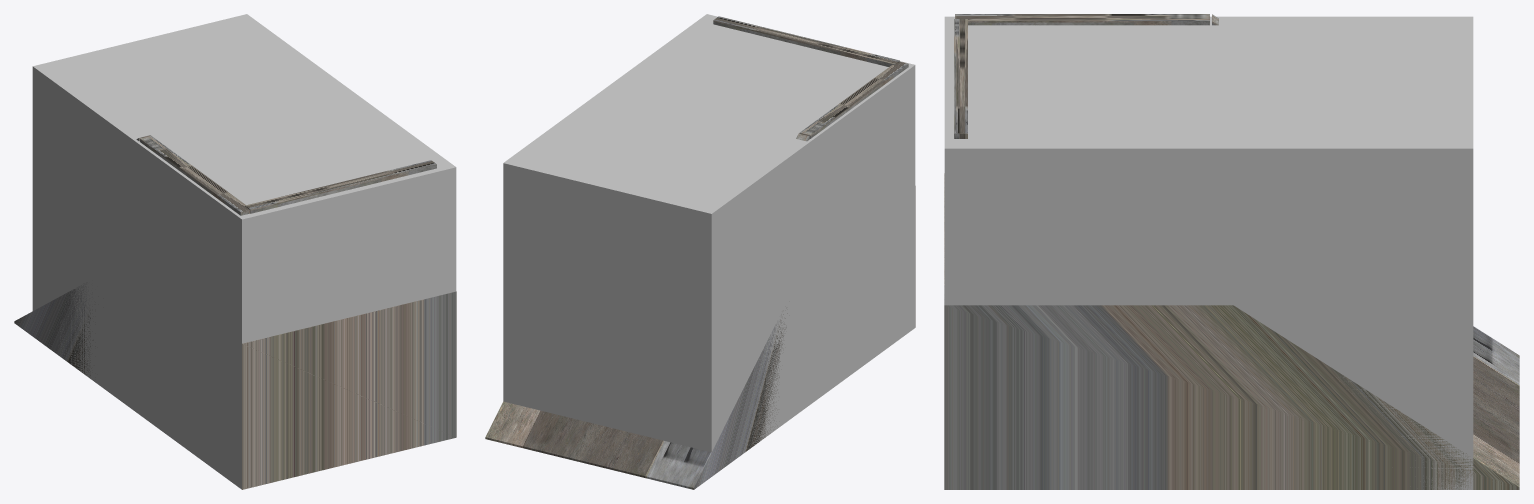
Rendered from concrete_stairs_right.DAE.
3 renders of one model, left to right at view 1: azimuth 30°, elevation 25°; view 2: azimuth 150°, elevation 25°; view 3: azimuth 270°, elevation 25°, orthographic. The views are drawn at different scales.
Visible parts, largest first — view 1: bounds, col-04, col-03, col-02; view 2: bounds, col-04, col-03, col-02; view 3: bounds, col-04, col-02, col-03.
Boxes of the visible parts, x1,y1,x2,y2 form: bounds: [32, 14, 456, 489]; col-04: [14, 282, 456, 489]; col-03: [245, 160, 436, 213]; col-02: [140, 135, 250, 215]; bounds: [503, 14, 915, 452]; col-04: [485, 186, 915, 489]; col-03: [713, 16, 899, 66]; col-02: [799, 61, 908, 138]; bounds: [944, 16, 1473, 489]; col-04: [944, 173, 1519, 489]; col-02: [955, 14, 1209, 25]; col-03: [954, 19, 967, 138].
Size of the model in its own units: 203 by 374 by 249.
2 materials, 1 textured.
